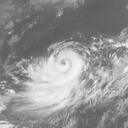cyclone: (20, 41, 89, 111)
